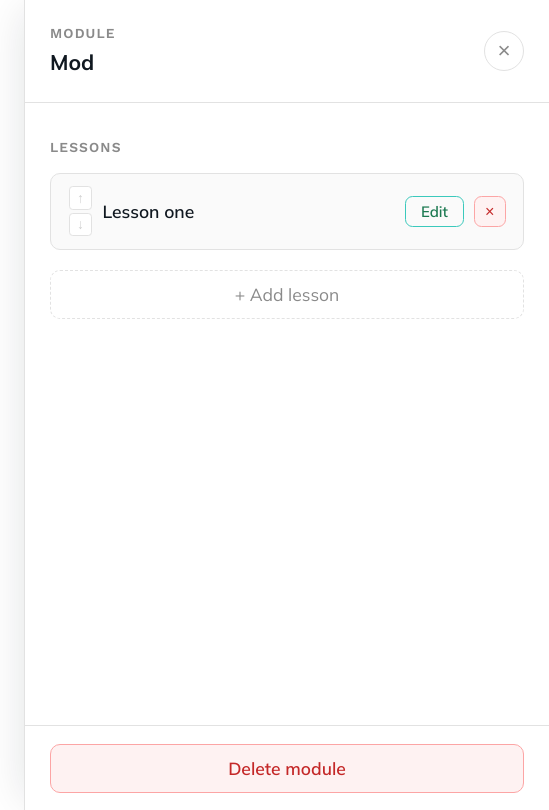
Test: ModulePanel lesson delete confirmation › does not delete when cancelled
Click the button titled "Delete lesson" in the row of "Lesson one" at (490, 211), box left=474, top=196, right=506, bottom=227
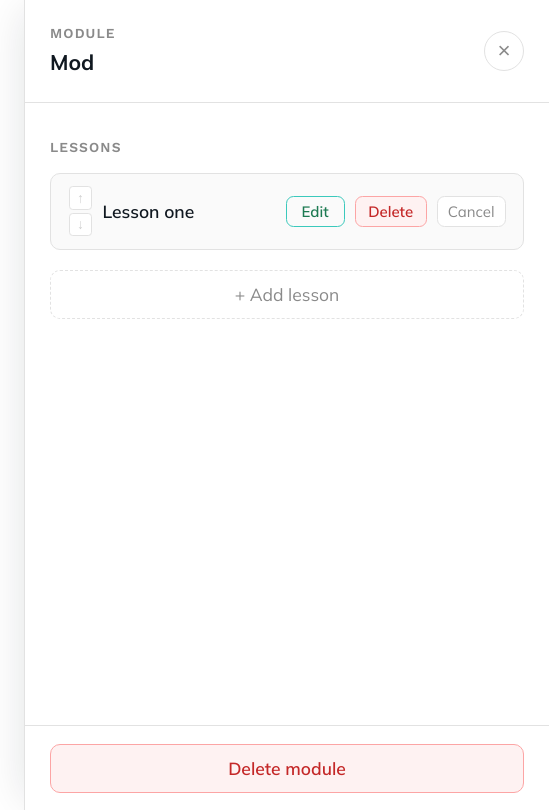
Click the button "Cancel" at (471, 211), box left=437, top=196, right=506, bottom=227
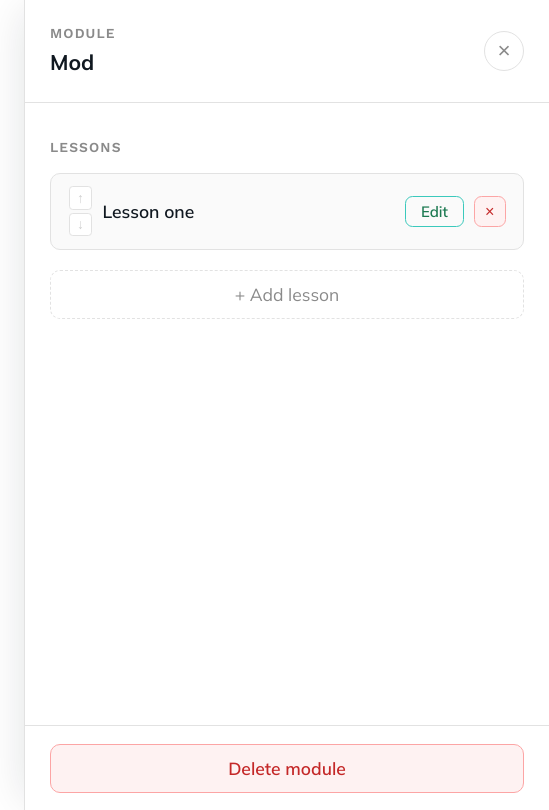
Expected: the text "Lesson one" is shown, left=102, top=200, right=194, bottom=222
Now the button titled "Delete lesson" in the row of "Lesson one" is shown, box left=474, top=196, right=506, bottom=227
